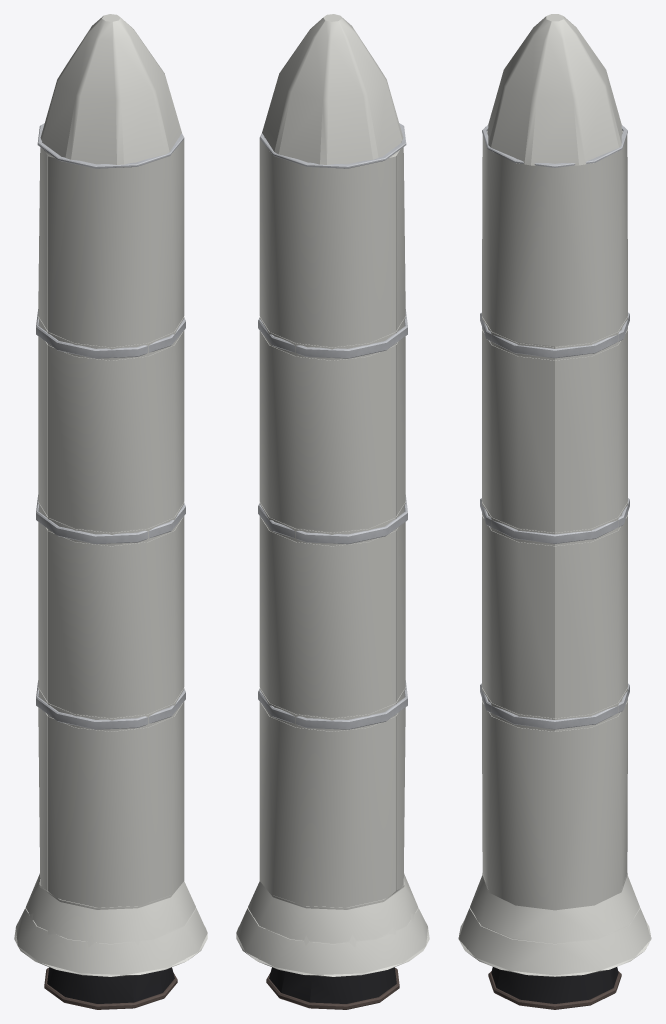
The model's file is ax_prop_13_segmented_srb_l.glb.
3 renders of one model, left to right at view 1: azimuth 30°, elevation 25°; view 2: azimuth 150°, elevation 25°; view 3: azimuth 270°, elevation 25°, orthographic.
Parts seen in each view (by area): view 1: motor_case, nose_cap, aft_skirt, field_joints, nozzle, nozzle_lip, forward_ring; view 2: motor_case, nose_cap, aft_skirt, field_joints, nozzle, nozzle_lip, forward_ring; view 3: motor_case, nose_cap, aft_skirt, field_joints, nozzle, nozzle_lip, forward_ring.
Boxes of the visible parts, <box> form: motor_case: <box>38,139,184,907</box>; nose_cap: <box>40,14,181,164</box>; aft_skirt: <box>14,873,207,976</box>; field_joints: <box>36,309,185,729</box>; nozzle: <box>47,967,174,1003</box>; nozzle_lip: <box>44,967,177,1009</box>; forward_ring: <box>37,123,184,168</box>; motor_case: <box>259,139,405,907</box>; nose_cap: <box>262,14,403,164</box>; aft_skirt: <box>236,873,429,976</box>; field_joints: <box>258,309,407,729</box>; nozzle: <box>269,967,396,1003</box>; nozzle_lip: <box>266,967,399,1009</box>; forward_ring: <box>259,123,406,168</box>; motor_case: <box>482,131,627,910</box>; nose_cap: <box>487,14,622,165</box>; aft_skirt: <box>458,873,651,976</box>; field_joints: <box>480,312,629,729</box>; nozzle: <box>491,967,618,1003</box>; nozzle_lip: <box>488,971,621,1009</box>; forward_ring: <box>482,125,627,167</box>.
Bounding box in the file's own units: 4.95 × 27.29 × 4.95.
4 materials, 2 textured.
